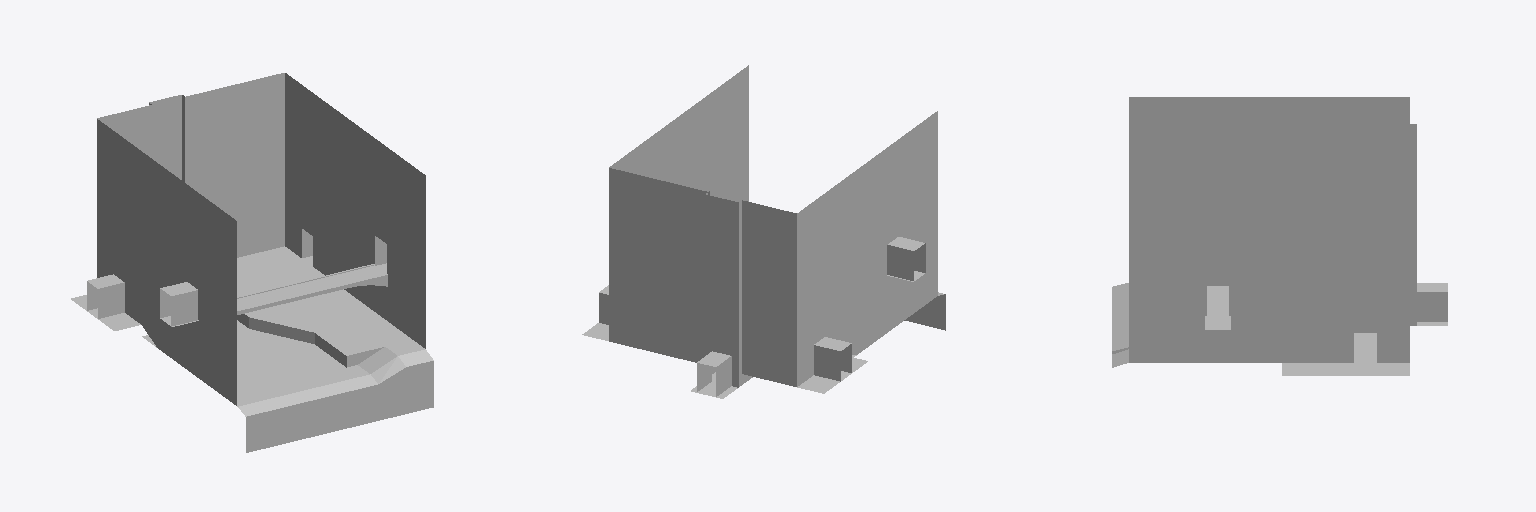
The model's file is mrgb_format.obj.
3 views of the same model, side by side, from view 1: azimuth 30°, elevation 25°; view 2: azimuth 150°, elevation 25°; view 3: azimuth 270°, elevation 25° (orthographic).
Visible parts, largest first — view 1: polySurface9 polySurface10, pPlane16 polySurface17, polySurface18 pPlane16, polySurface7, pPlane14, polySurface9 polySurface13, polySurface9 polySurface15, pPlane15; view 2: polySurface9 polySurface10, polySurface9 polySurface13, polySurface9 polySurface15, polySurface9 polySurface14, polySurface18 pPlane16, pPlane16 polySurface17, pPlane15; view 3: polySurface9 polySurface10, pPlane16 polySurface17, polySurface18 pPlane16, polySurface9 polySurface14, polySurface7.
Part boxes in pixels (x1,y1,x2,y2): polySurface9 polySurface10: (97, 73, 425, 405); pPlane16 polySurface17: (142, 246, 424, 406); polySurface18 pPlane16: (238, 349, 433, 452); polySurface7: (160, 263, 387, 326); pPlane14: (237, 314, 383, 367); polySurface9 polySurface13: (160, 279, 198, 326); polySurface9 polySurface15: (87, 272, 125, 318); pPlane15: (71, 295, 140, 330); polySurface9 polySurface10: (609, 65, 937, 387); polySurface9 polySurface13: (886, 234, 925, 280); polySurface9 polySurface15: (813, 335, 851, 381); polySurface9 polySurface14: (697, 349, 732, 396); polySurface18 pPlane16: (904, 292, 945, 330); pPlane16 polySurface17: (582, 323, 856, 398); pPlane15: (797, 357, 867, 393); polySurface9 polySurface10: (1129, 97, 1416, 362); pPlane16 polySurface17: (1282, 322, 1447, 375); polySurface18 pPlane16: (1112, 283, 1128, 367); polySurface9 polySurface14: (1417, 283, 1447, 321); polySurface7: (1205, 299, 1230, 329).
Size of the model in its own units: 1399 by 1248 by 1678.